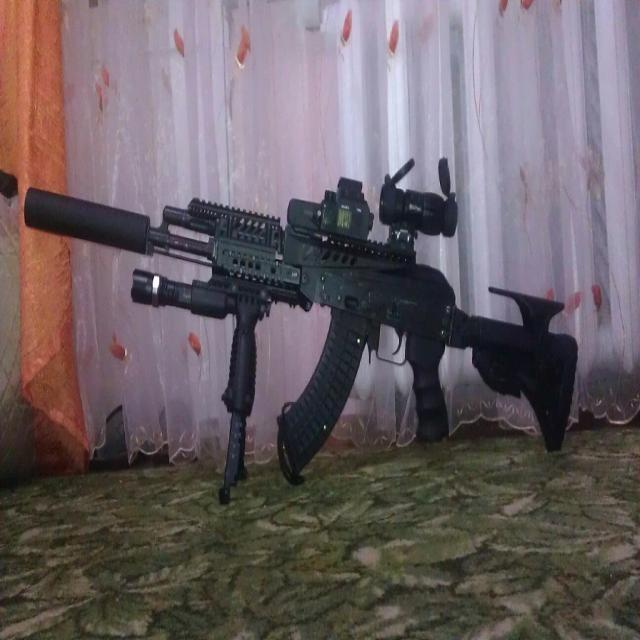firearm: (21, 156, 579, 510)
